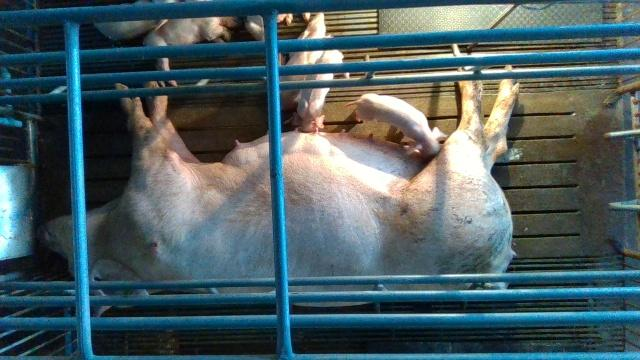piglet: (349, 94, 448, 159), (270, 10, 331, 112), (143, 16, 239, 73), (297, 48, 345, 131), (92, 0, 183, 40)
sow-sleep-lactate: (37, 55, 521, 310)
